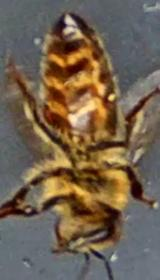varroa_mite: (38, 94, 63, 130)
